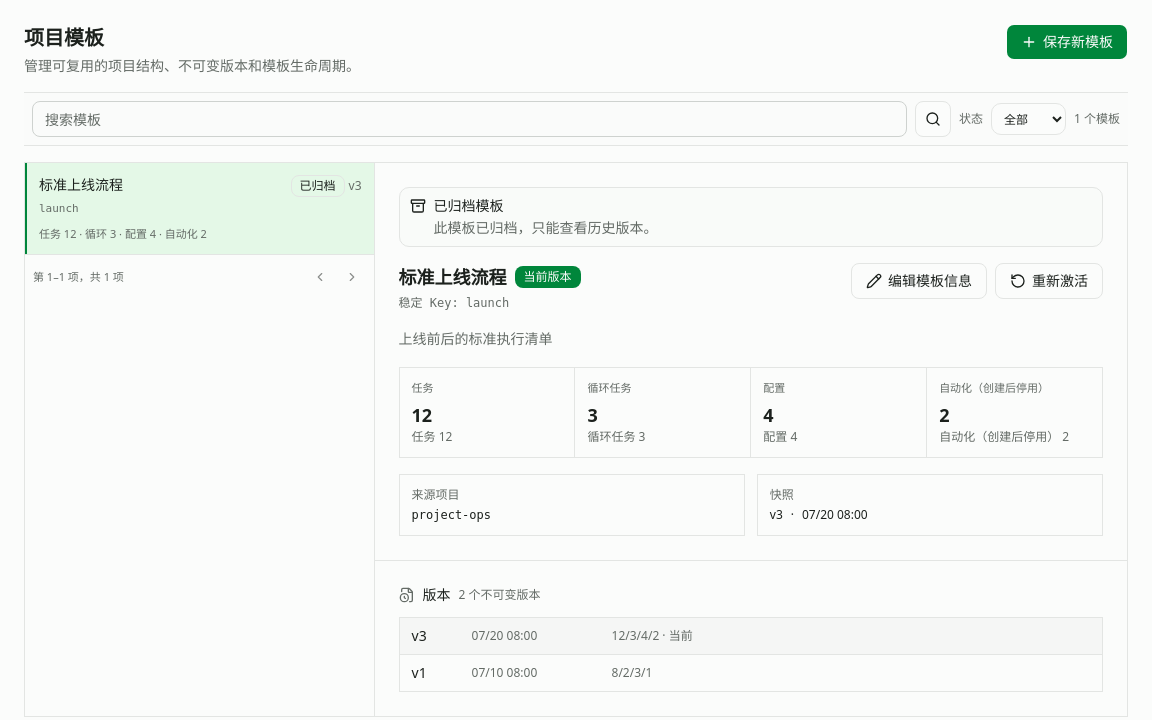
ProjectTemplateLibraryPage › shows archived lifecycle feedback, hides create actions, and reactivates
Expected: the text "此模板已归档，只能查看历史版本。" is shown, [434,218,658,237]
Expected: the button "从模板创建" is not shown
Click the button "重新激活" at (1049, 281), box [995,263,1103,299]
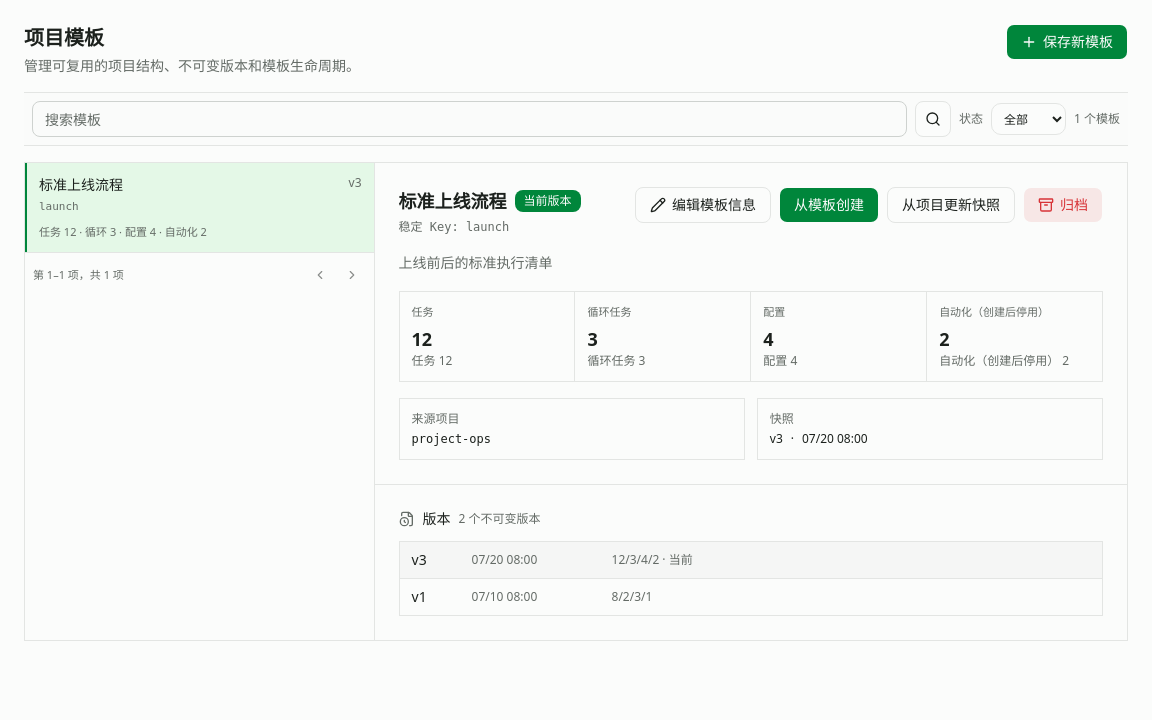
Result: the text "此模板已归档，只能查看历史版本。" is gone
Result: the button "从模板创建" is shown at [779,187,879,223]
Result: the button "从项目更新快照" is shown at [887,187,1015,223]
